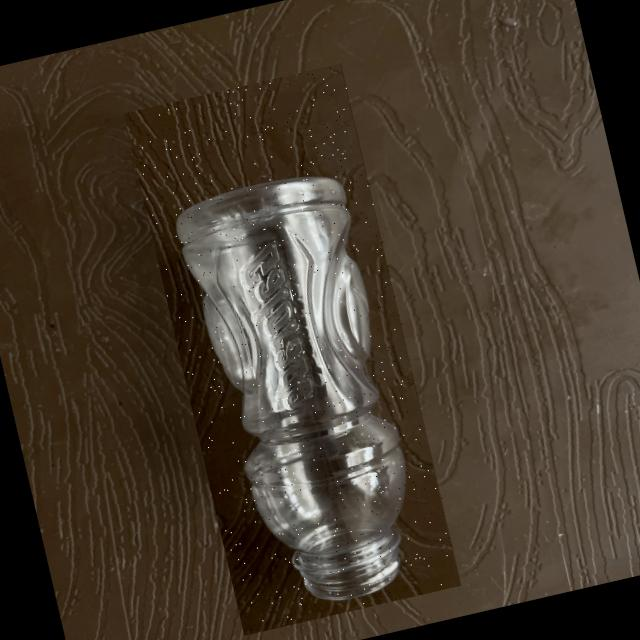PET_ClearBottle: (124, 62, 463, 635)
